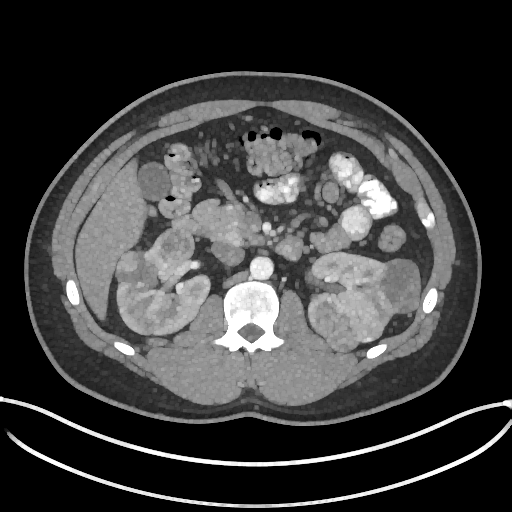Lesion: (371, 254, 425, 321), (109, 249, 158, 289)
